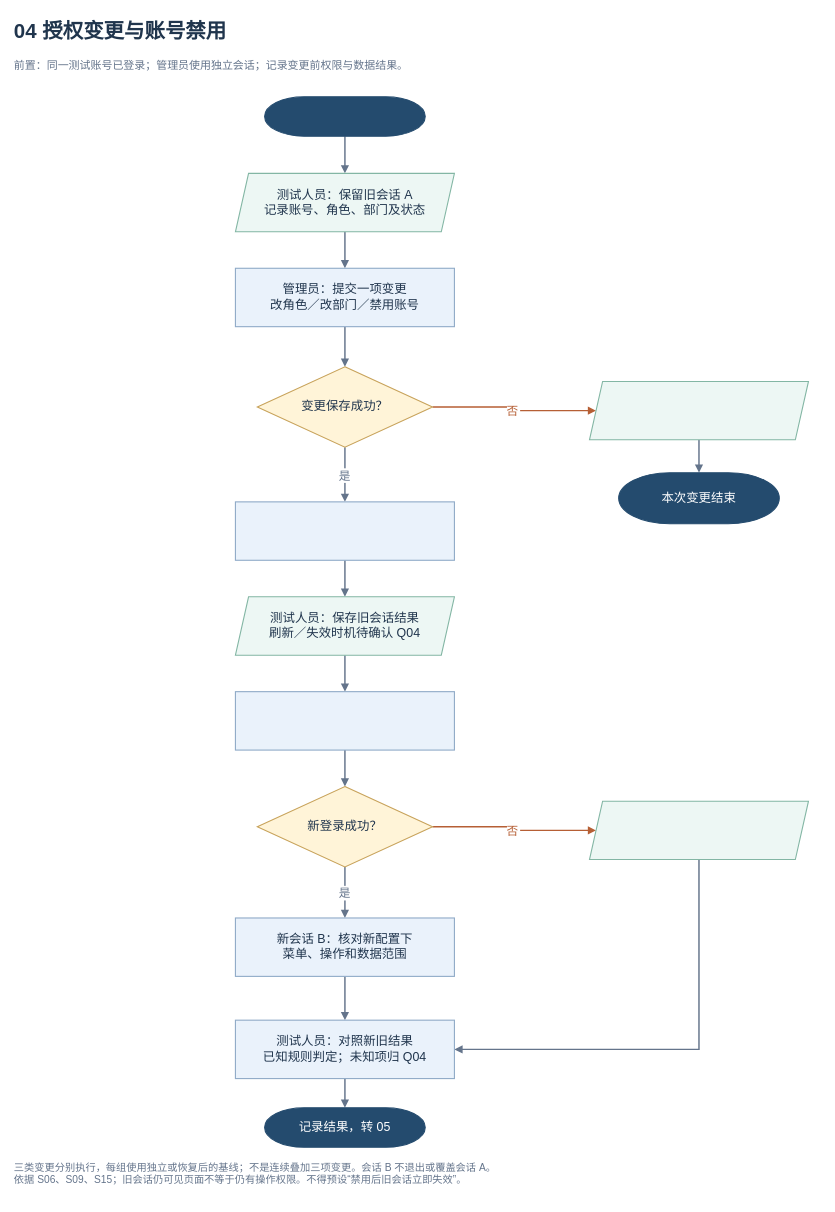
Image size: 835x1212. Some labels were removed from this diagram. The shapes that lost their labels are listed below. From the top down, each one's box as (x1, y1, x2, y2) in pixels, then its label:
(264, 96, 425, 136): 开始
(589, 381, 809, 440): 记录失败并核对当前配置 不按变更已生效继续判断
(235, 501, 455, 560): 旧会话 A：继续访问 菜单、目标操作和用户列表
(235, 691, 455, 750): 独立会话 B：重新登录 使用同一账号及有效凭据
(589, 800, 809, 860): 记录新登录拒绝原因 禁用账号预期走此分支
